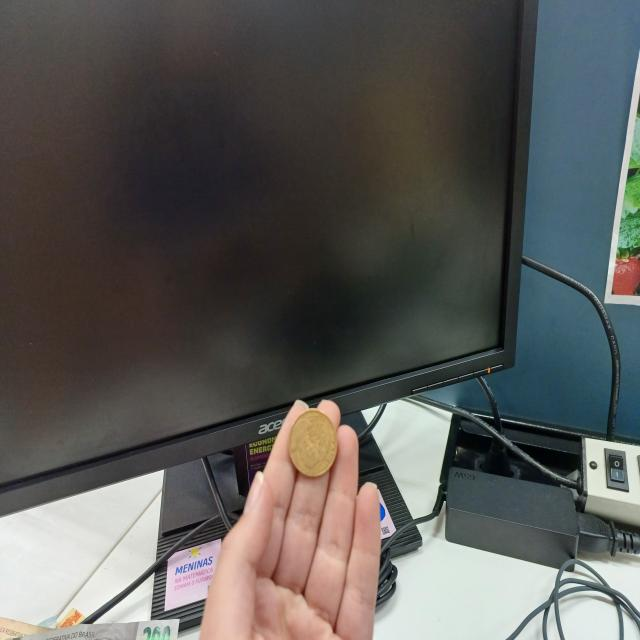25 cents: (288, 409, 343, 483)
